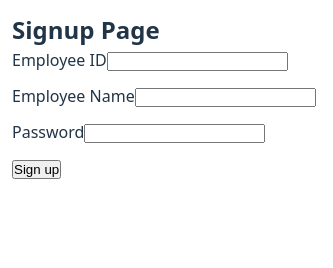
SignupPage › shows validation errors for empty submission
Click the button "Sign up" at (37, 170), box [12,160,61,179]
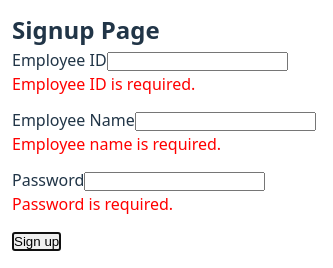
Check: the text "Employee ID is required." is shown, box [12,73,195,95]
Check: the text "Employee name is required." is shown, box [12,133,221,155]
Check: the text "Password is required." is shown, box [12,193,173,215]
